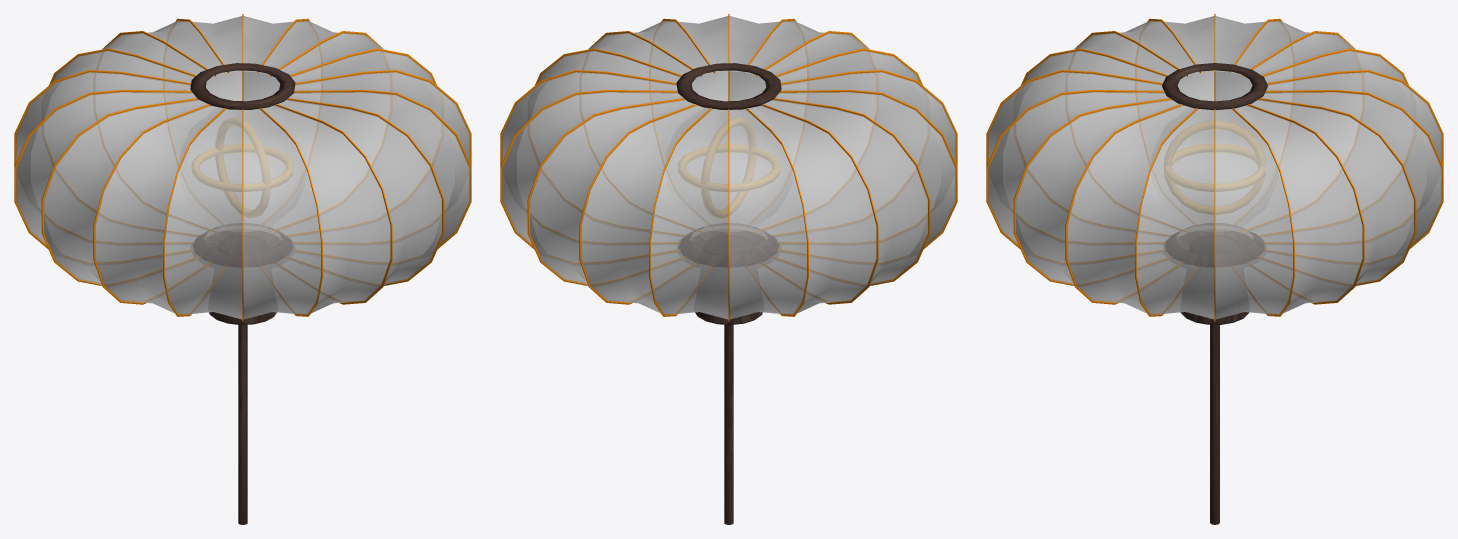
The model's file is bk-silk-lantern.glb.
The picture shows the model from 3 angles, left to right: view 1: azimuth 30°, elevation 25°; view 2: azimuth 150°, elevation 25°; view 3: azimuth 270°, elevation 25°; orthographic projection.
Visible parts, largest first — view 1: Circle.010, Circle.014, Torus.003, Circle.013, Circle.011, Cylinder.002, Circle.012; view 2: Circle.010, Circle.014, Torus.003, Circle.013, Circle.011, Cylinder.002, Circle.012; view 3: Circle.010, Circle.014, Torus.003, Circle.013, Circle.011, Cylinder.002, Circle.012.
Boxes of the visible parts, x1=… form: Circle.010: x1=16, y1=16, x2=469, y2=319; Circle.014: x1=14, y1=14, x2=471, y2=321; Torus.003: x1=192, y1=118, x2=293, y2=218; Circle.013: x1=192, y1=223, x2=293, y2=268; Circle.011: x1=190, y1=63, x2=295, y2=109; Cylinder.002: x1=238, y1=324, x2=247, y2=524; Circle.012: x1=209, y1=235, x2=276, y2=324; Circle.010: x1=502, y1=16, x2=955, y2=319; Circle.014: x1=500, y1=14, x2=957, y2=321; Torus.003: x1=678, y1=118, x2=779, y2=218; Circle.013: x1=678, y1=223, x2=779, y2=268; Circle.011: x1=676, y1=63, x2=781, y2=109; Cylinder.002: x1=724, y1=324, x2=733, y2=524; Circle.012: x1=695, y1=235, x2=762, y2=324; Circle.010: x1=988, y1=16, x2=1441, y2=319; Circle.014: x1=986, y1=14, x2=1443, y2=321; Torus.003: x1=1164, y1=120, x2=1265, y2=214; Circle.013: x1=1165, y1=223, x2=1264, y2=267; Circle.011: x1=1162, y1=63, x2=1267, y2=109; Cylinder.002: x1=1210, y1=324, x2=1219, y2=524; Circle.012: x1=1180, y1=235, x2=1249, y2=324.
Bounding box in the file's own units: 0.9521 × 1 × 0.938.
5 materials, 2 textured.
